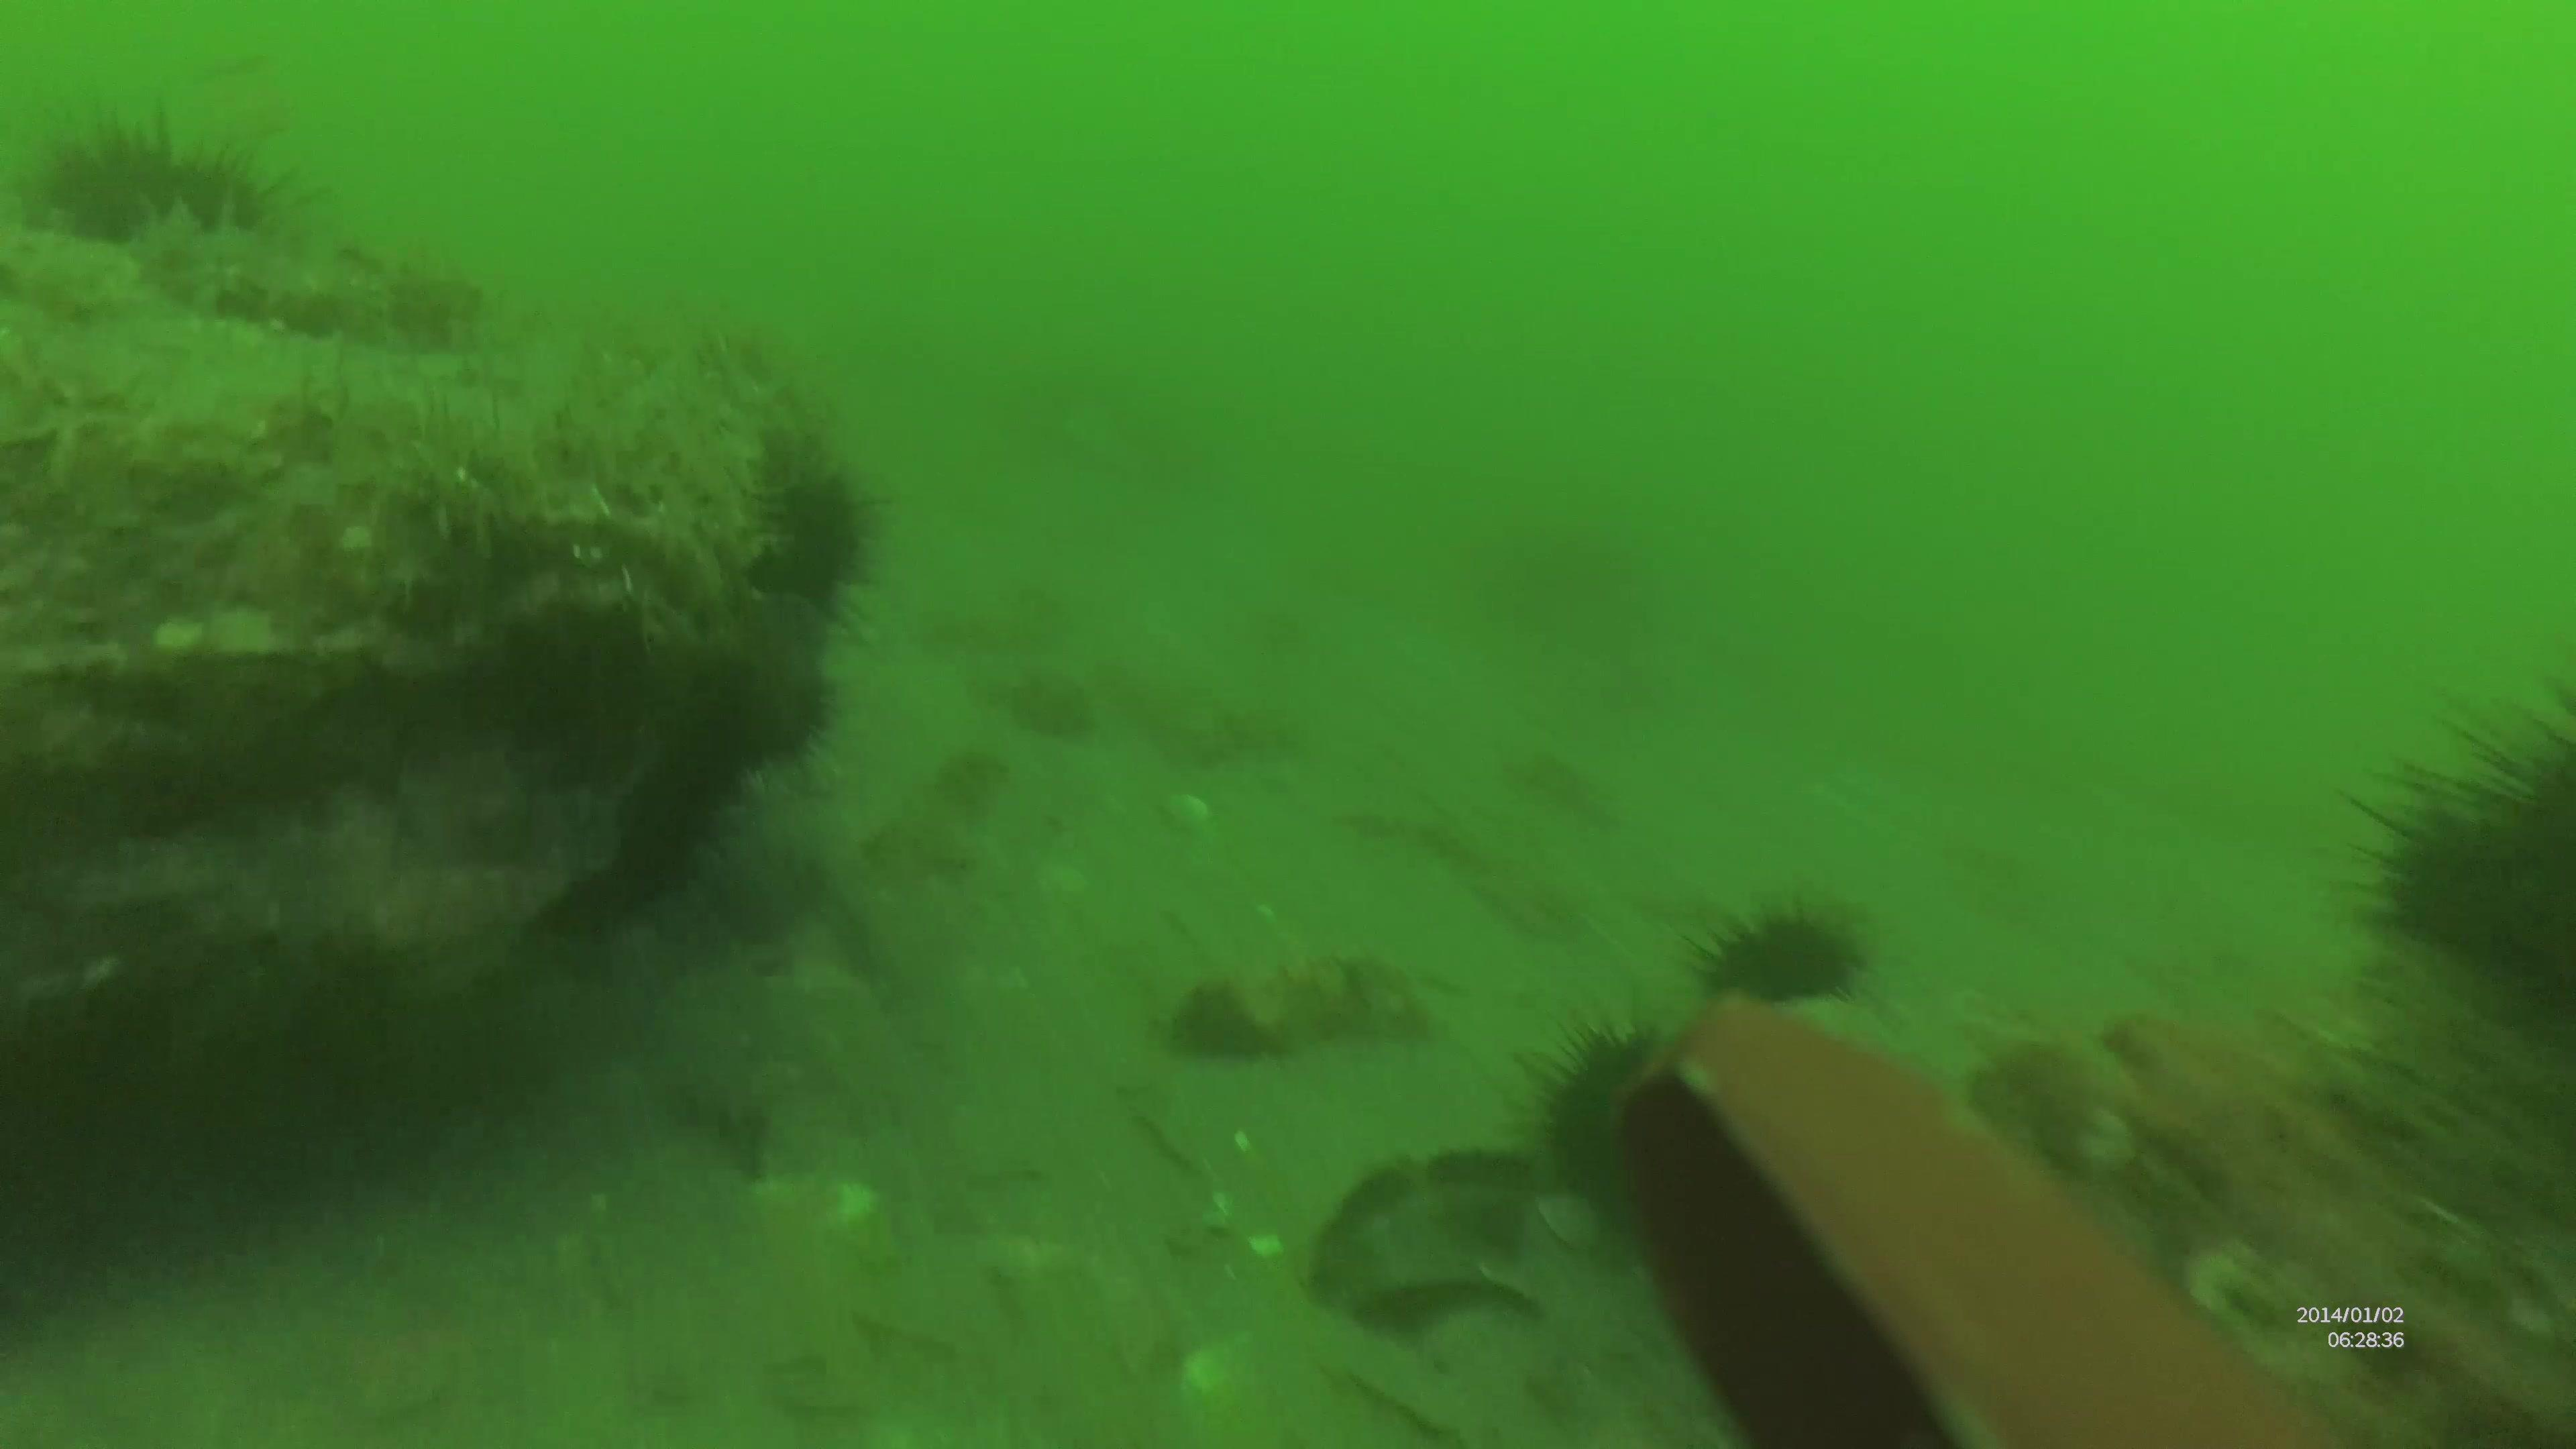echinus: (2337, 694, 2576, 1099), (34, 106, 244, 242), (1525, 1001, 1665, 1155), (1706, 892, 1870, 1016), (732, 467, 865, 616)
holothurian: (179, 248, 465, 350)
